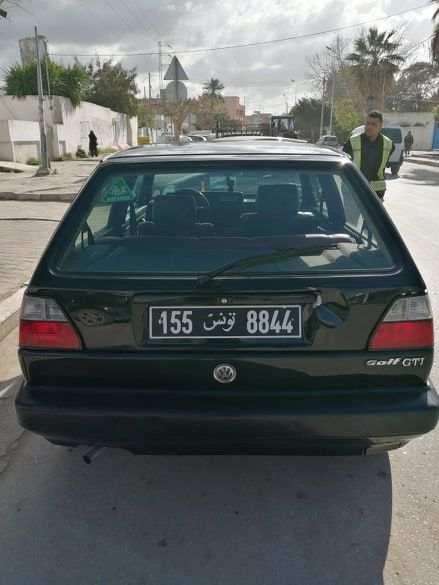LP: (149, 302, 302, 340)
